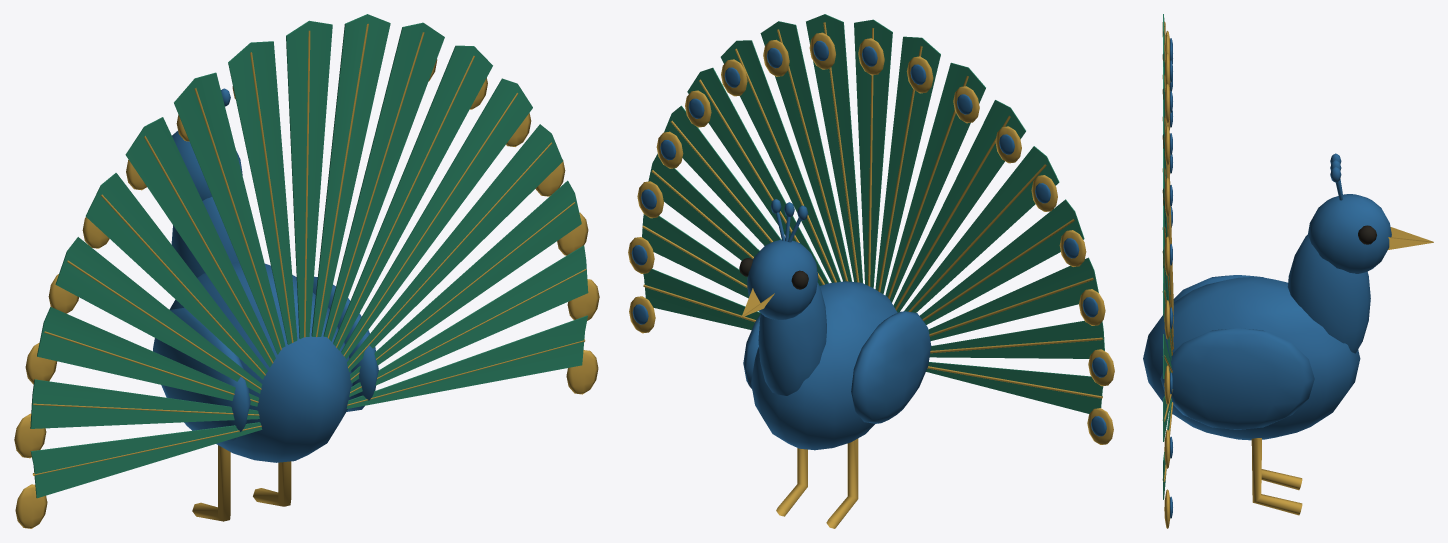
The model's file is peacock.glb.
3 views of the same model, side by side, from view 1: azimuth 30°, elevation 25°; view 2: azimuth 150°, elevation 25°; view 3: azimuth 270°, elevation 25° (orthographic). The views are drawn at different scales.
Visible parts, largest first — view 1: fan feather, beak, bird torso, folded wing, folded wing.001, foot, foot.001; view 2: fan feather, bird torso, beak, folded wing, foot, foot.001, folded wing.001; view 3: bird torso, folded wing.001, beak, fan feather, foot.001, foot, folded wing.
Part boxes in pixels (x1,y1,x2,y2): fan feather: [30, 14, 588, 498]; beak: [14, 23, 599, 528]; bird torso: [169, 88, 352, 462]; folded wing: [153, 307, 250, 443]; folded wing.001: [313, 276, 378, 411]; foot: [192, 445, 230, 521]; foot.001: [253, 461, 291, 506]; fan feather: [642, 14, 1104, 413]; bird torso: [631, 40, 1107, 450]; beak: [628, 22, 1114, 444]; folded wing: [851, 311, 931, 423]; foot: [826, 438, 858, 528]; foot.001: [776, 448, 807, 516]; folded wing.001: [743, 315, 760, 389]; bird torso: [1143, 38, 1391, 518]; folded wing.001: [1160, 328, 1314, 429]; beak: [1162, 21, 1433, 528]; fan feather: [1163, 14, 1172, 499]; foot.001: [1251, 438, 1302, 515]; foot: [1261, 469, 1302, 490]; folded wing: [1173, 275, 1263, 302].
Bounding box in the file's own units: 1.64 × 1.47 × 0.83.
